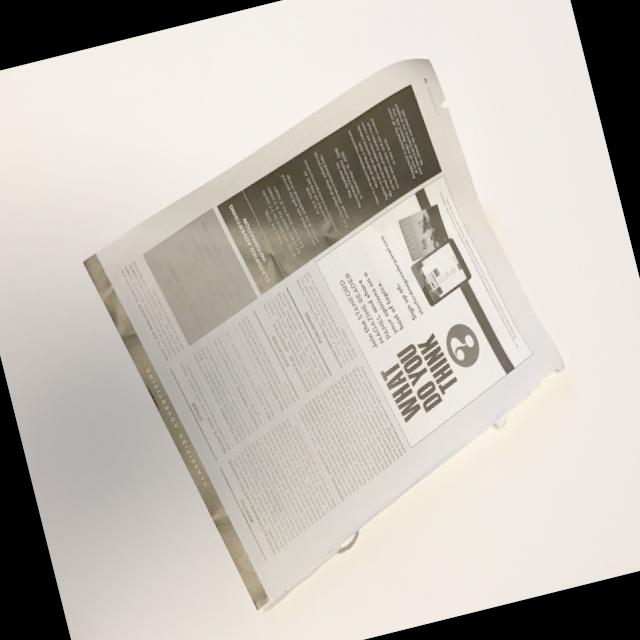Cardboard: (48, 23, 606, 635)
